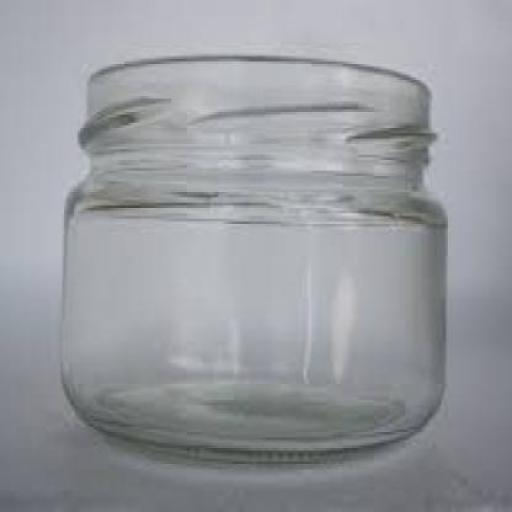glass: (58, 56, 444, 456)
